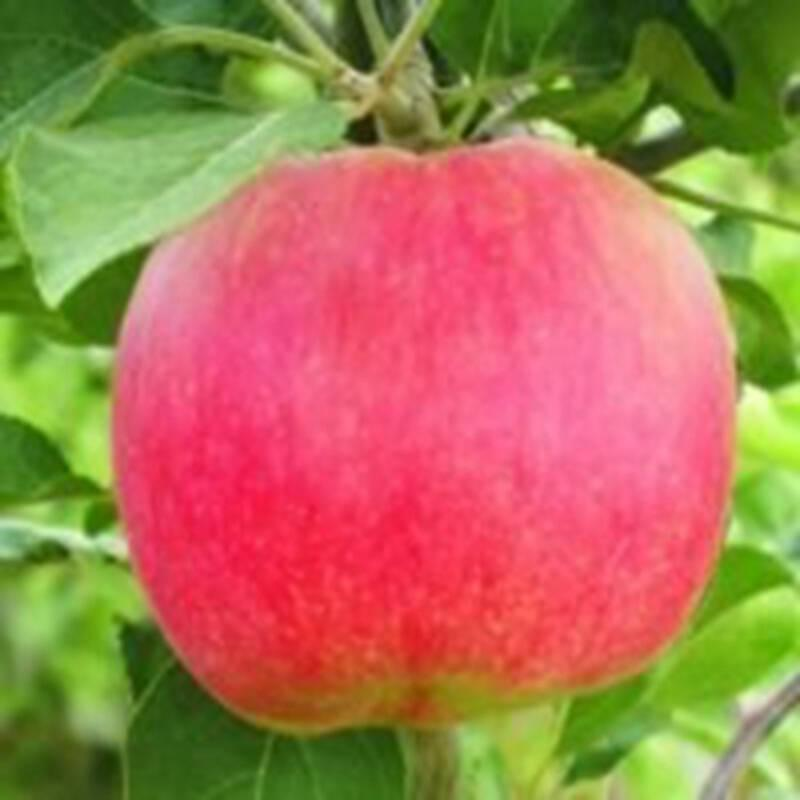apple: (113, 138, 741, 734)
